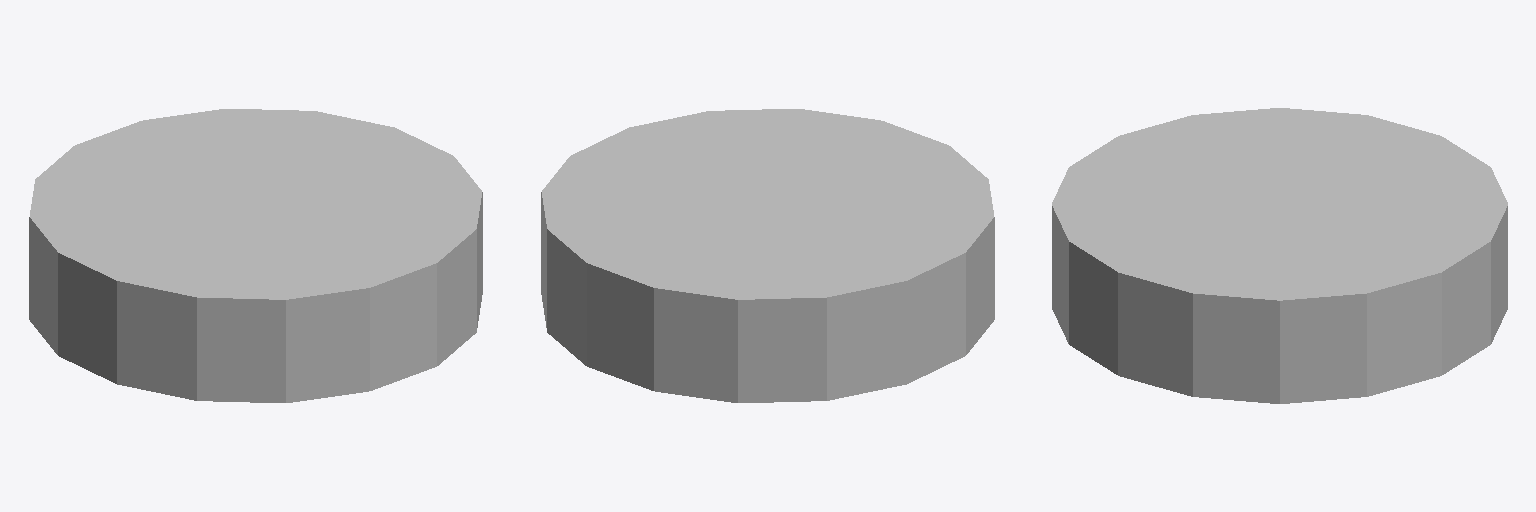
The model's file is shibe.obj.
3 views of the same model, side by side, from view 1: azimuth 30°, elevation 25°; view 2: azimuth 150°, elevation 25°; view 3: azimuth 270°, elevation 25° (orthographic).
Visible parts, largest first — view 1: shibe; view 2: shibe; view 3: shibe.
Part boxes in pixels (bbox=[...]): shibe: bbox=[29, 109, 482, 402]; shibe: bbox=[541, 109, 994, 402]; shibe: bbox=[1052, 108, 1507, 403].
Bounding box in the file's own units: 4 × 1 × 4.